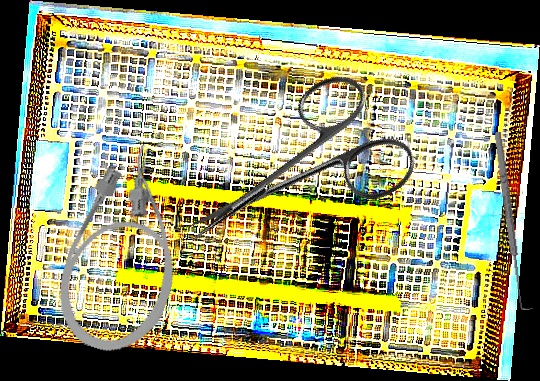Cannula: (43, 133, 211, 365)
Hook Surgical: (491, 130, 535, 312)
Iris Scissors: (155, 60, 425, 294)
